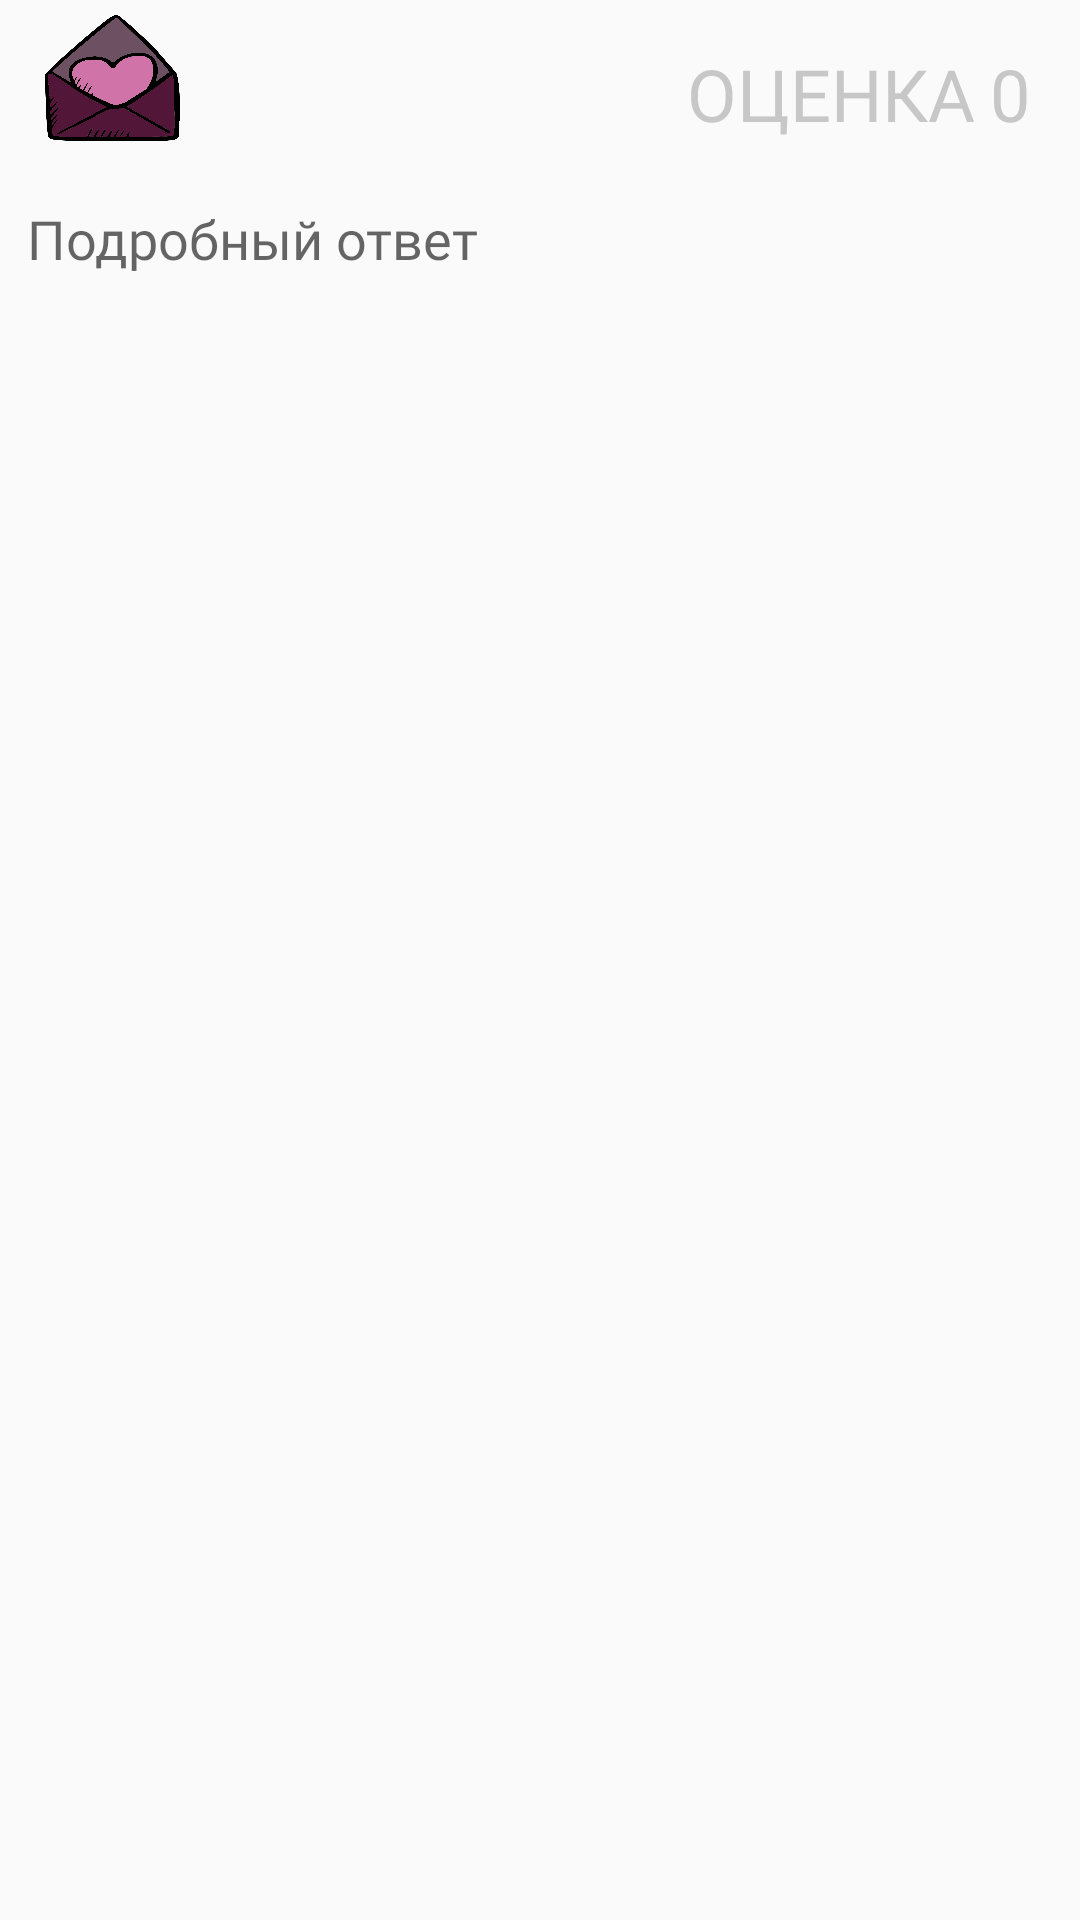

Named icons in this screenshot (1080*1920) and their centers, [x,y]:
letter: [112,78]
